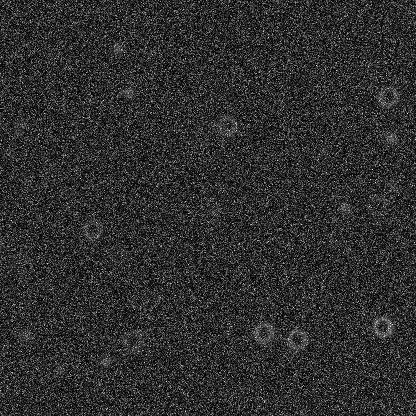Ring: (376, 84, 400, 108), (80, 217, 104, 241), (370, 314, 394, 338), (121, 328, 145, 352), (251, 320, 275, 344), (215, 113, 239, 137), (365, 193, 389, 217), (7, 250, 31, 274), (106, 242, 130, 266), (285, 327, 309, 351)
Spot: (316, 141, 332, 157), (383, 129, 399, 145), (51, 359, 67, 375), (207, 203, 223, 219), (369, 213, 385, 229), (17, 327, 33, 343), (384, 178, 400, 194), (98, 352, 114, 368), (62, 312, 78, 328), (120, 84, 136, 100), (109, 40, 125, 56), (337, 200, 353, 216), (12, 116, 28, 132)
